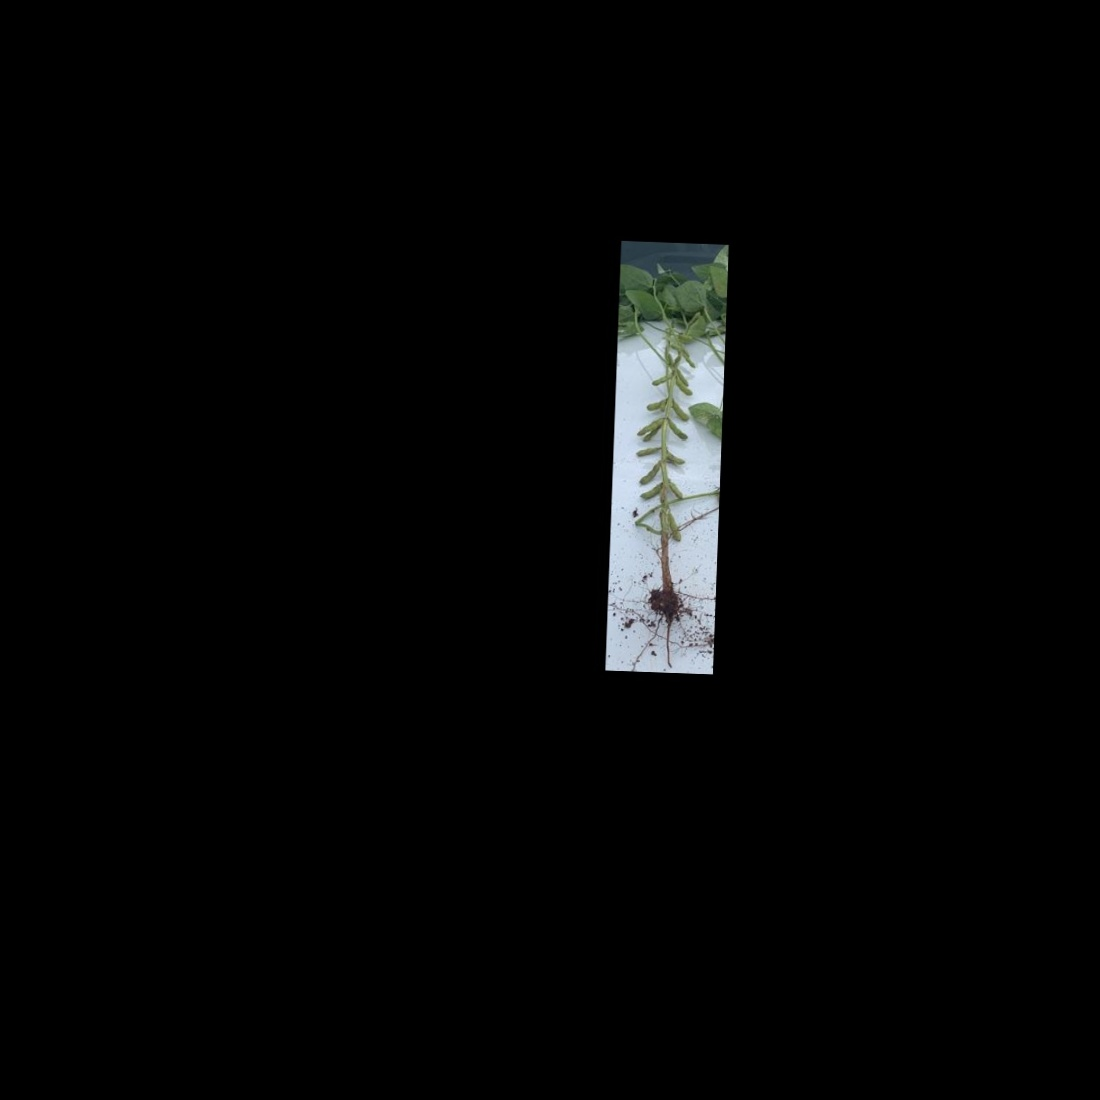pod: (664, 416, 691, 443), (637, 458, 663, 486), (635, 414, 663, 437), (666, 513, 686, 543), (671, 371, 693, 398), (629, 445, 664, 460), (664, 478, 686, 502), (639, 483, 661, 503), (664, 450, 689, 467), (642, 396, 665, 411), (651, 371, 667, 386)
soy: (612, 269, 723, 626)
